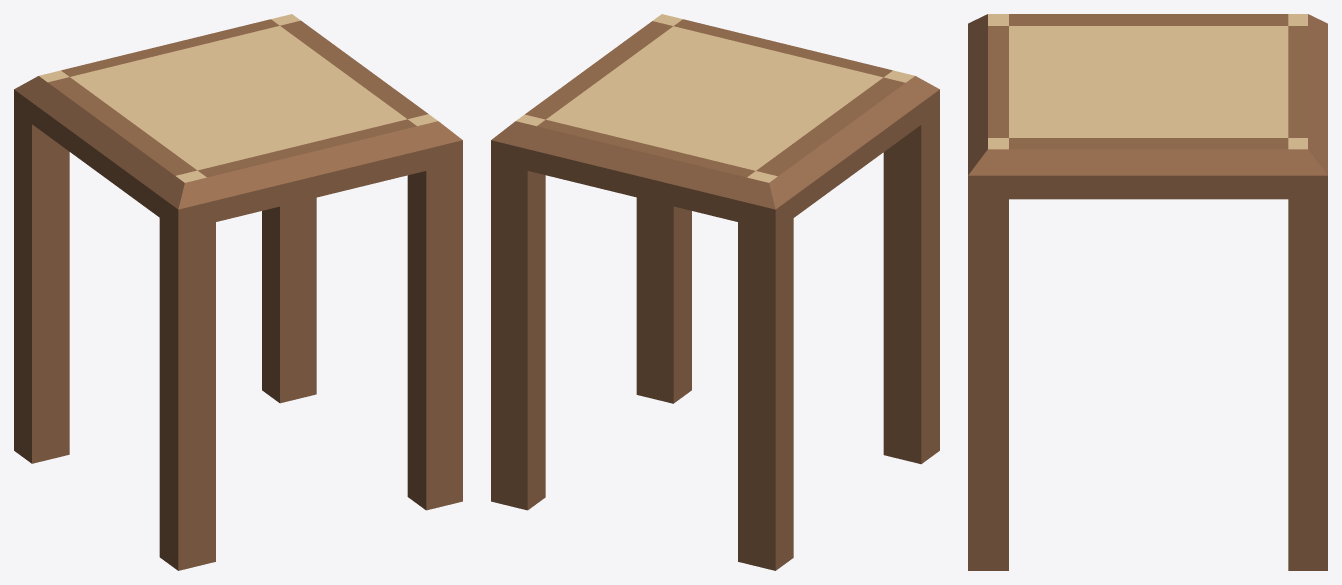
Rendered from BedsideTable_Textured.fbx.
3 views of the same model, side by side, from view 1: azimuth 30°, elevation 25°; view 2: azimuth 150°, elevation 25°; view 3: azimuth 270°, elevation 25° (orthographic). The views are drawn at different scales.
Parts seen in each view (by area): view 1: pCube1, pCube1.001; view 2: pCube1, pCube1.001; view 3: pCube1, pCube1.001.
Part boxes in pixels (bbox=[...]): pCube1: bbox=[14, 19, 462, 570]; pCube1.001: bbox=[39, 14, 437, 182]; pCube1: bbox=[491, 19, 939, 570]; pCube1.001: bbox=[516, 14, 914, 182]; pCube1: bbox=[968, 14, 1327, 570]; pCube1.001: bbox=[988, 14, 1307, 149].
Size of the model in its own units: 196 by 249 by 196.
